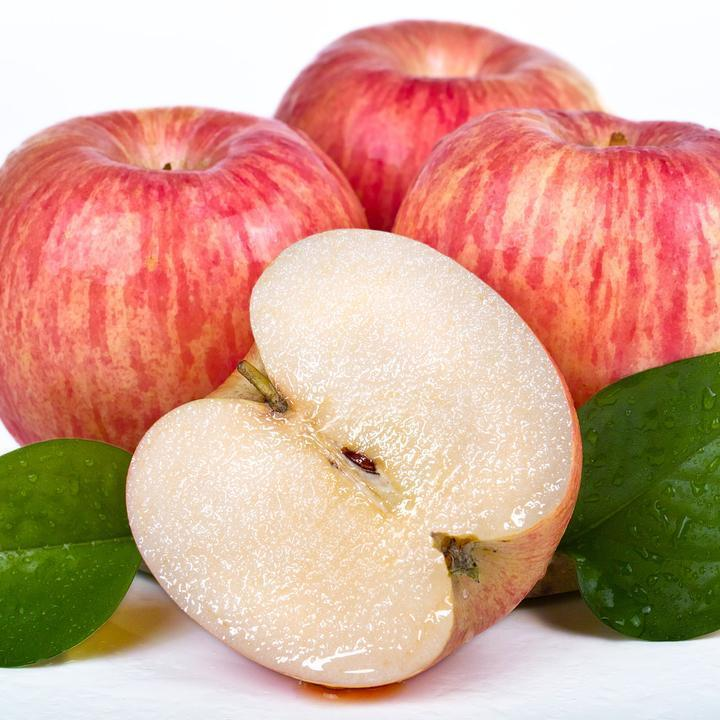apple: (1, 106, 363, 444), (386, 110, 716, 406), (285, 18, 600, 236)
